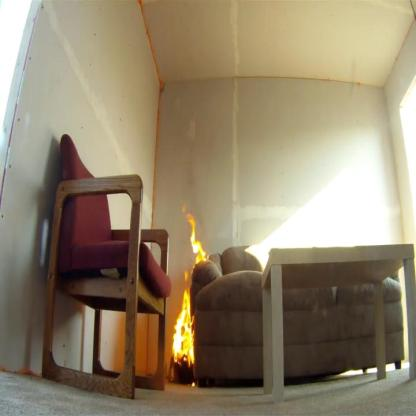fire: (171, 287, 196, 374), (181, 202, 209, 264)
